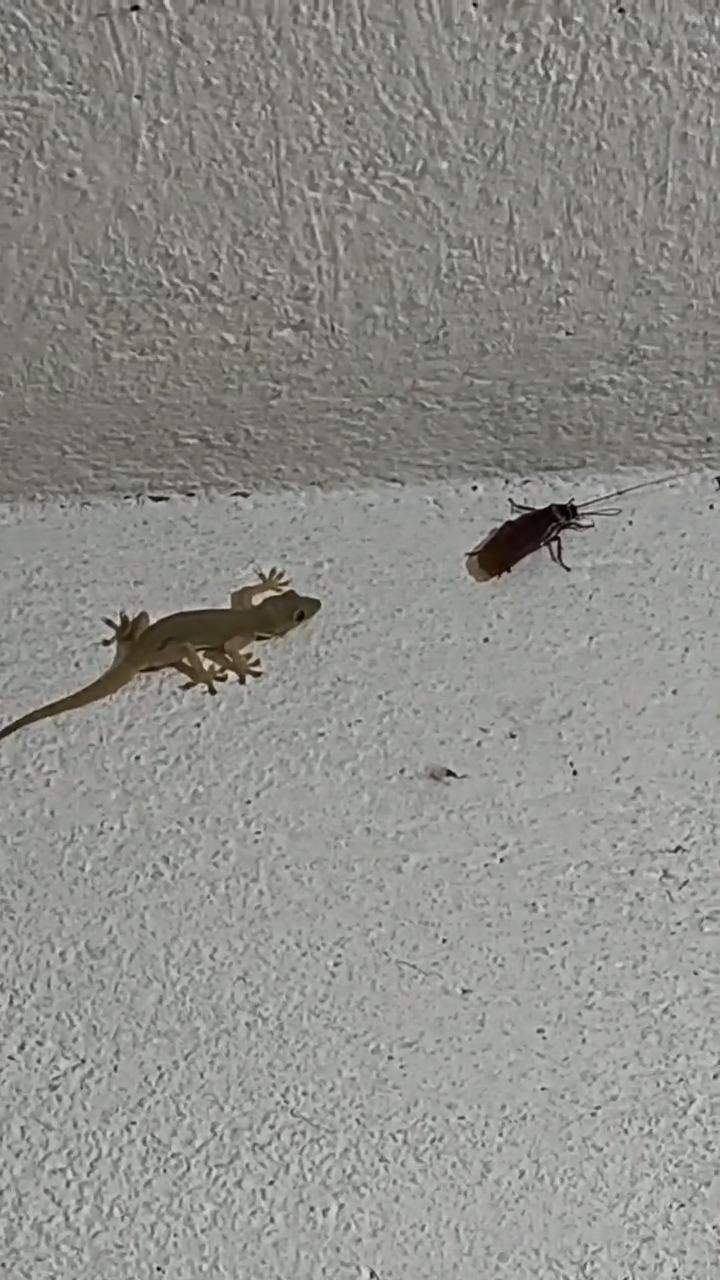cockroach: (453, 490, 633, 590)
lizard: (0, 546, 325, 740)
